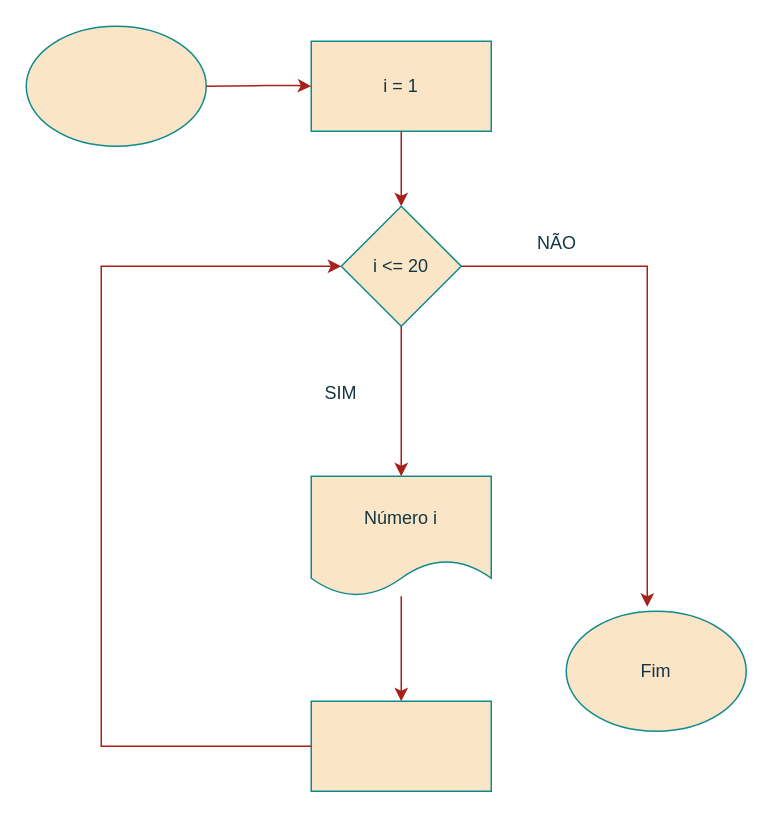
Image size: 773x818. Some labels were removed from this diagram. The centre of each missing label's shape, as x and y in pixels:
i++: (x=400, y=745)
Inicio: (x=115, y=85)
